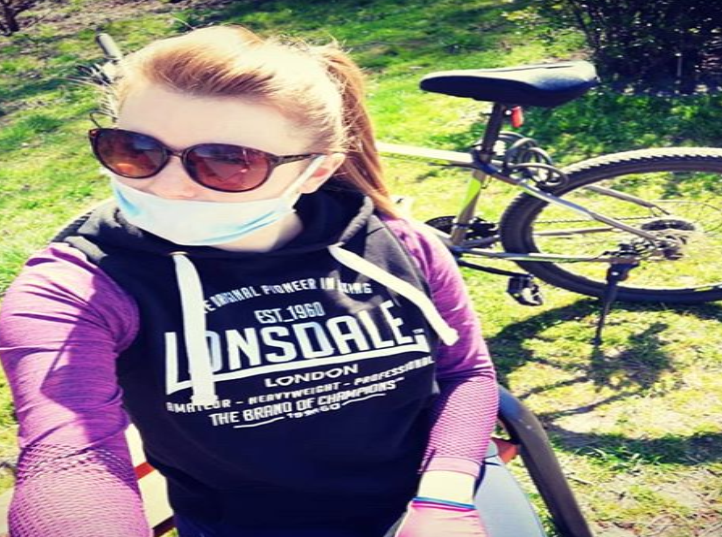mask_weared_incorrect: (81, 30, 359, 249)
